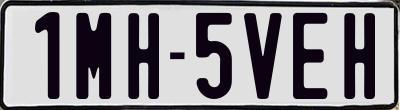1: (35, 10, 61, 101)
5: (196, 12, 236, 99)
E: (291, 13, 326, 99)
H: (127, 10, 161, 100), (344, 10, 379, 96)
M: (73, 13, 108, 103)
V: (241, 10, 285, 101)
